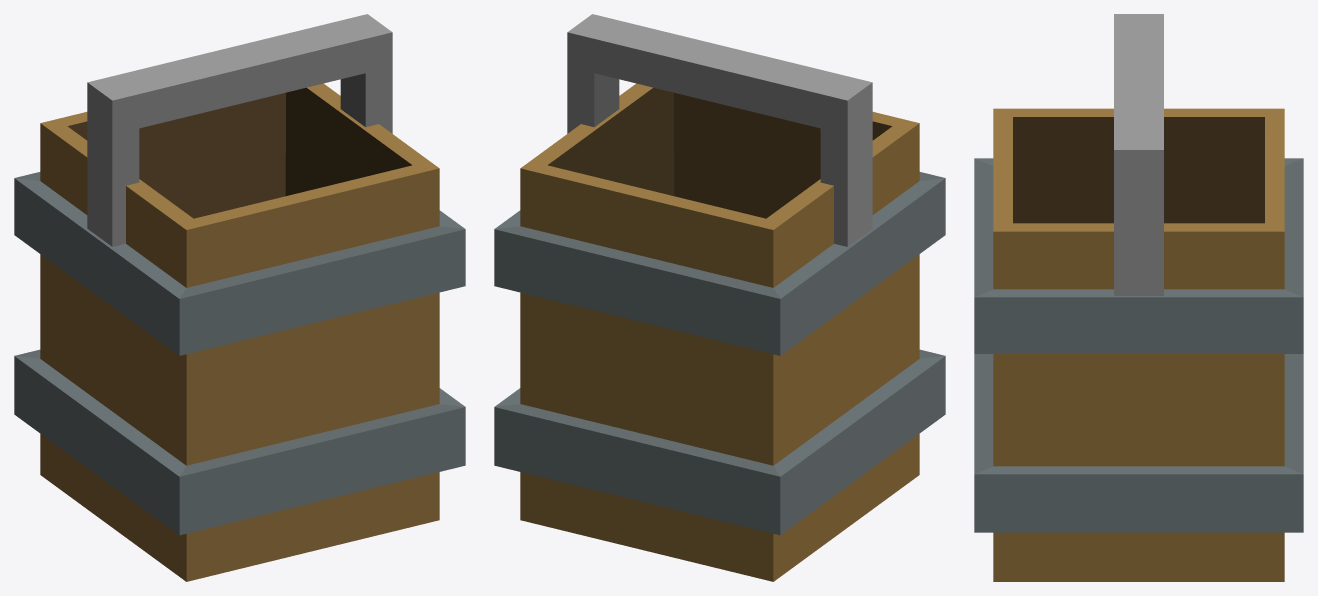
The model's file is Bucket_03.gltf.
The picture shows the model from 3 angles, left to right: view 1: azimuth 30°, elevation 25°; view 2: azimuth 150°, elevation 25°; view 3: azimuth 270°, elevation 25°; orthographic projection.
Parts seen in each view (by area): view 1: SF_Prop_Bucket_03; view 2: SF_Prop_Bucket_03; view 3: SF_Prop_Bucket_03.
Boxes of the visible parts, box(x1,y1,x2,y2) form: SF_Prop_Bucket_03: box(14, 14, 465, 581); SF_Prop_Bucket_03: box(494, 14, 945, 581); SF_Prop_Bucket_03: box(974, 14, 1303, 581).
Size of the model in its own units: 0.00642 by 0.00944 by 0.00642.
Materials: 1 (1 with a texture image).
